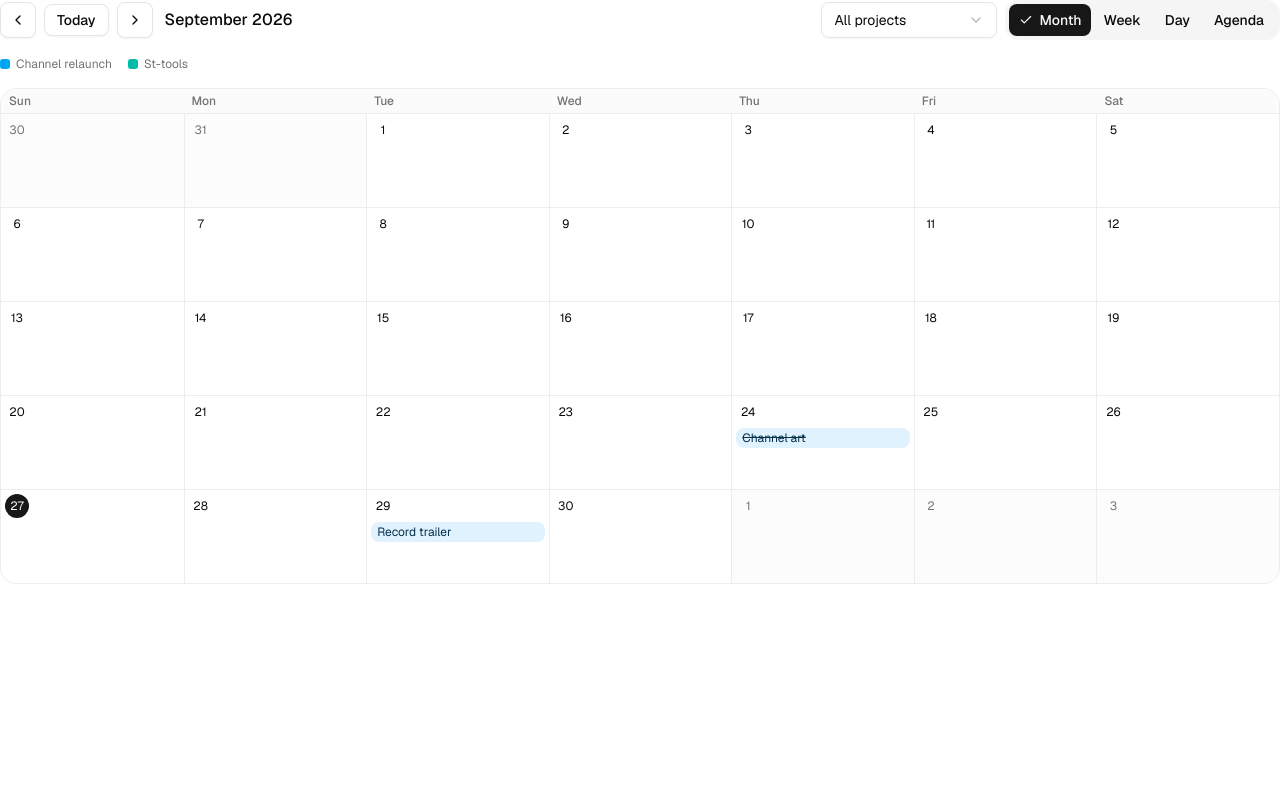
Scenario: HubCalendar › shows the month with a project legend and card details in a popover
Expected: the number of list items is 2, 0,56 -> 112,72; 128,56 -> 188,72
Step 1. Click the button "Record trailer" → (458, 532), box 371,522 -> 545,542
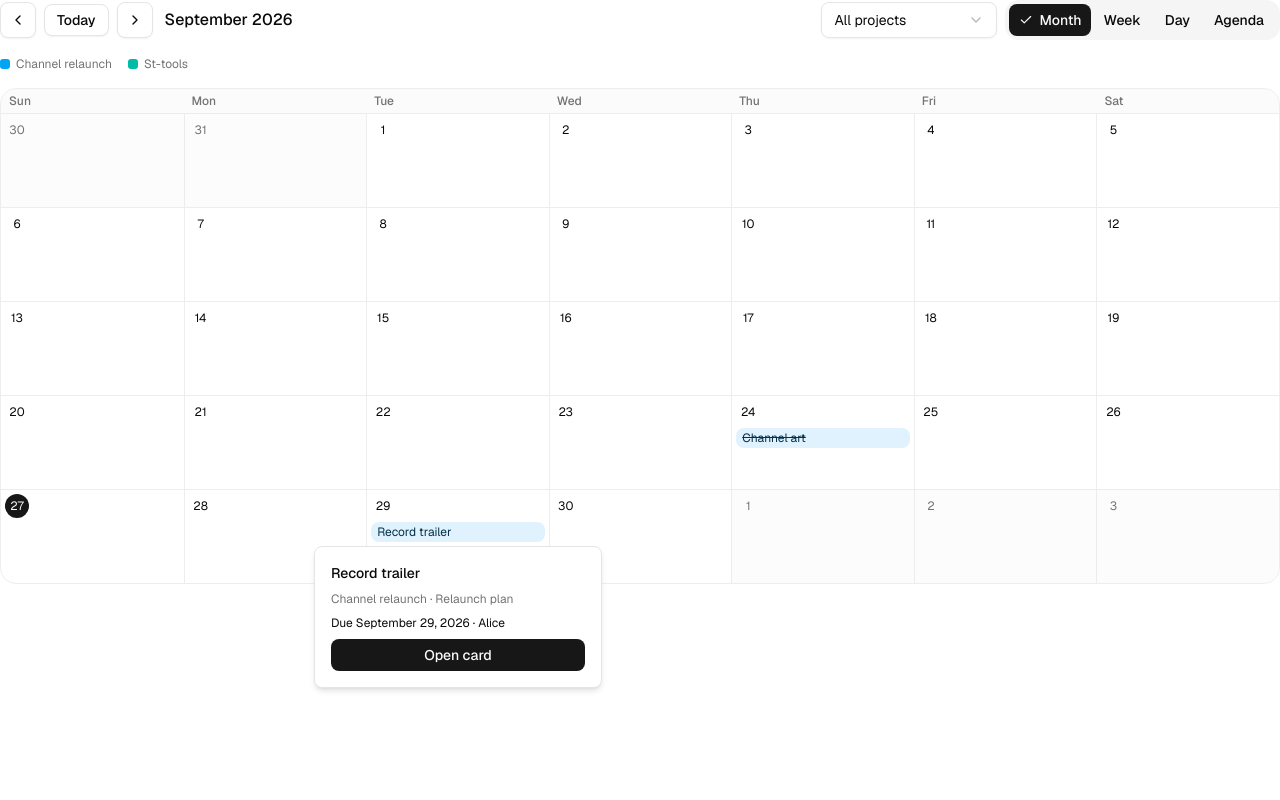
Now the dialog "Record trailer" shows "Channel relaunch · Relaunch plan", box 314,546 -> 602,688
Now the dialog "Record trailer" shows "Due September 29, 2026 · Alice", box 314,546 -> 602,688
